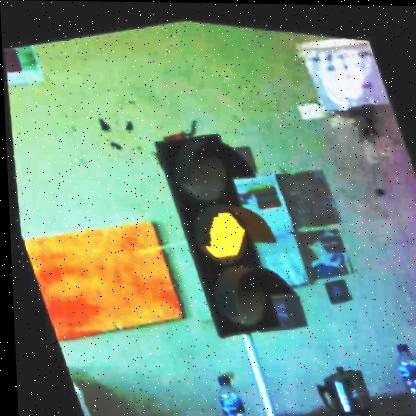Traffic Light -Yellow-: (146, 114, 302, 341)
